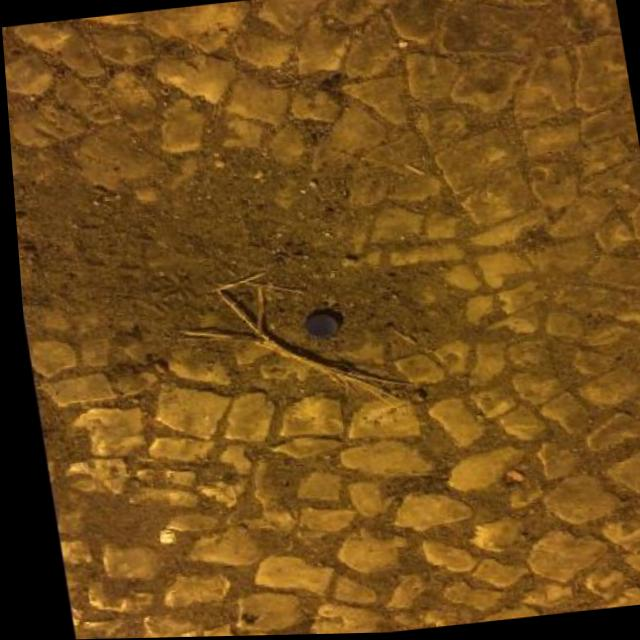plastic: (301, 313, 338, 340)
